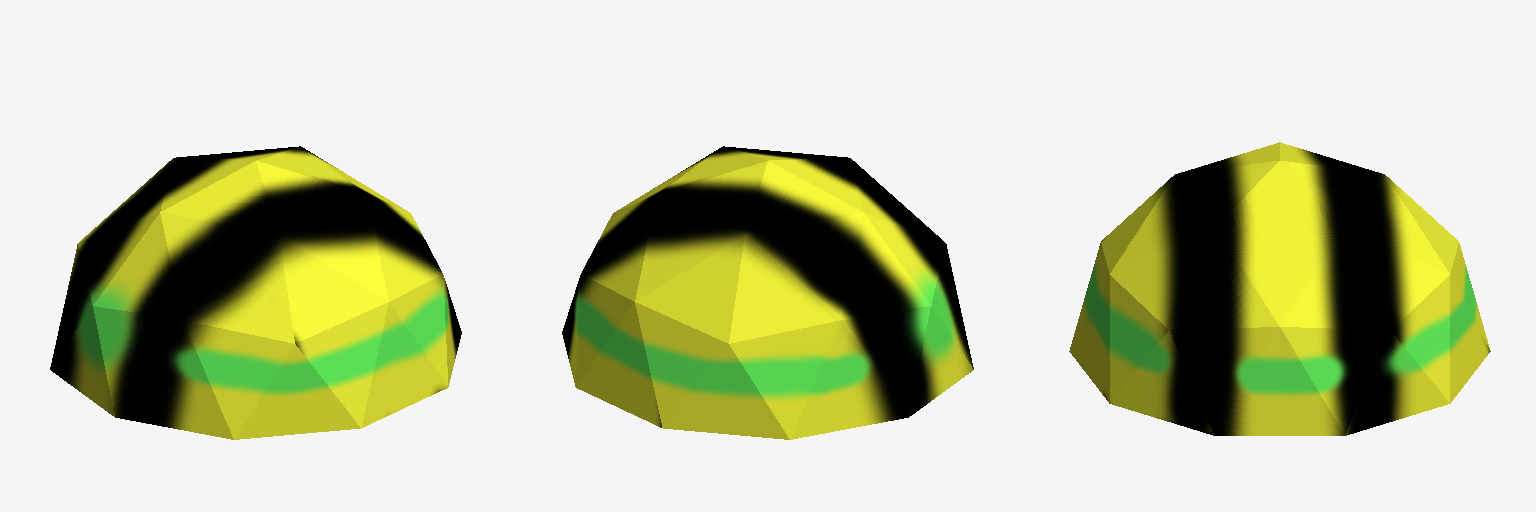
3 renders of one model, left to right at view 1: azimuth 30°, elevation 25°; view 2: azimuth 150°, elevation 25°; view 3: azimuth 270°, elevation 25°, orthographic.
Parts seen in each view (by area): view 1: ICO球; view 2: ICO球; view 3: ICO球.
Boxes of the visible parts, <box> form: ICO球: <box>50,146,461,439</box>; ICO球: <box>562,146,973,439</box>; ICO球: <box>1069,142,1490,435</box>.
Size of the model in its own units: 1.9 by 1 by 2.
Materials: 1 (1 with a texture image).